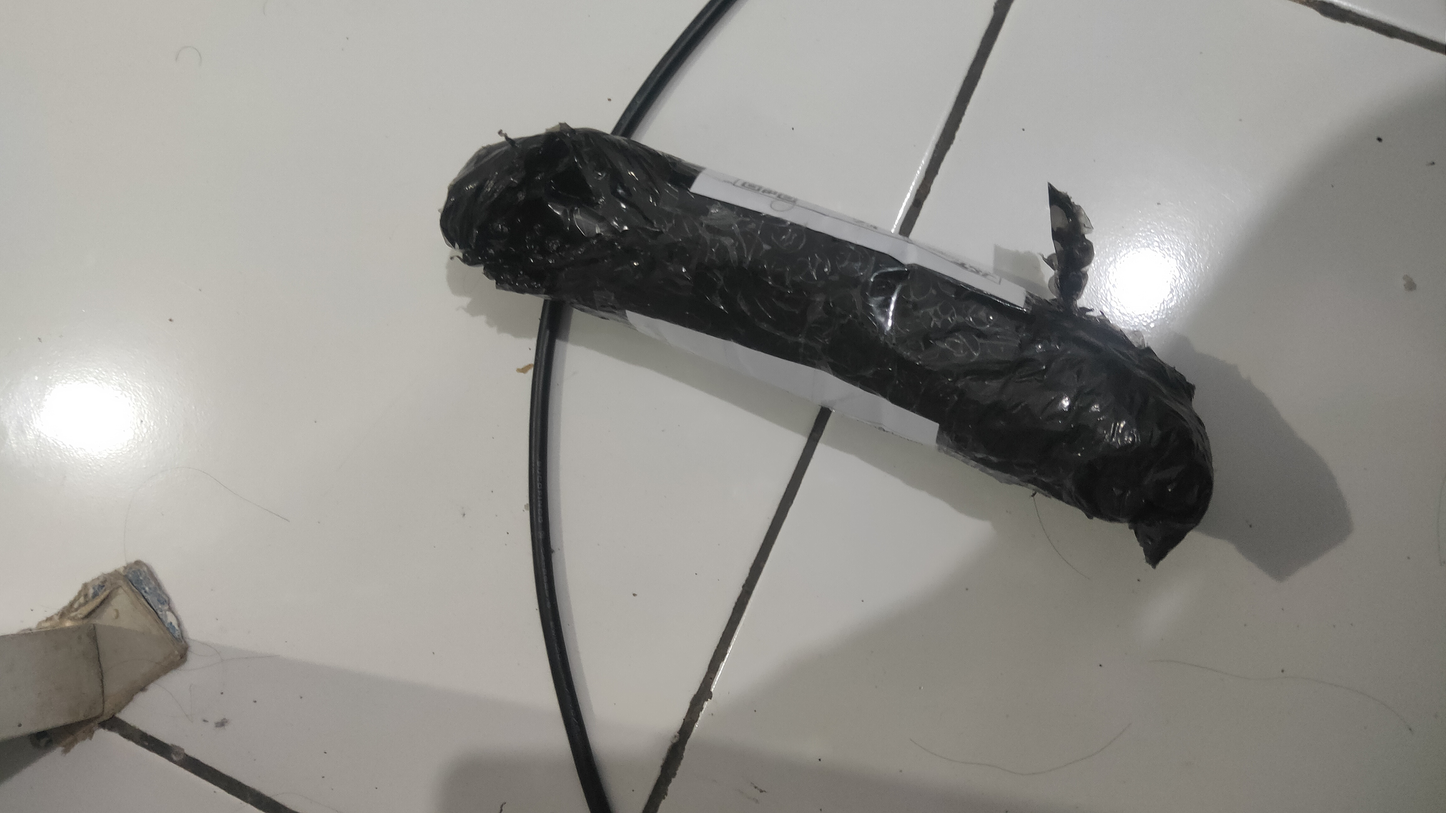damaged package: (468, 134, 636, 298)
undamaged: (427, 119, 1231, 575)
